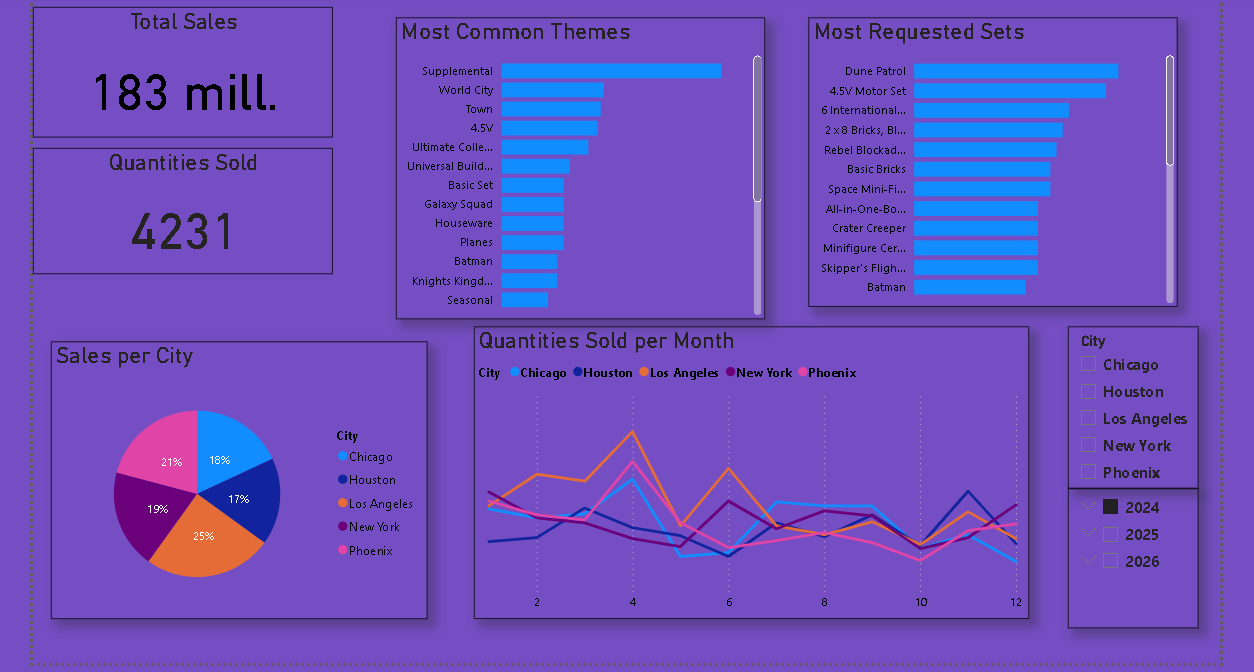

The page's visual inventory and layout, read from the dashboard file:
{"tool":"powerbi","page":{"name":"Página 1","canvas":[1280,720],"ordinal":0},"visuals":[{"type":"pieChart","title":"Sales per City","fields":{"Y":["CountNonNull(fact_orders.order_id)"],"Series":["fact_orders.city_ship"]},"box":[19.4,373.8,406.1,299.3],"z":0},{"type":"lineChart","title":"Quantities Sold per Month","fields":{"Category":["dim_date.month"],"Y":["Sum(fact_orders.quantity)"],"Series":["fact_orders.city_ship"]},"box":[475.7,357.6,598.7,315.5],"z":1000},{"type":"card","title":"Total Sales","fields":{"Values":["Medidas.price x quantity"]},"box":[0,12.9,323.6,140.8],"z":2000},{"type":"clusteredBarChart","title":"Most Requested Sets","fields":{"Category":["dim_set.set_name"],"Y":["CountNonNull(fact_orders.order_id)"]},"box":[836.5,24.3,398,312.3],"z":3000},{"type":"clusteredBarChart","title":"Most Common Themes","fields":{"Y":["CountNonNull(fact_orders.order_id)"],"Category":["dim_set.theme_name"]},"box":[391.6,24.3,398,325.2],"z":4000},{"type":"card","title":"Quantities Sold","fields":{"Values":["Sum(fact_orders.quantity)"]},"box":[0,165,323.6,135.9],"z":5000},{"type":"slicer","fields":{"Values":["fact_orders.city_ship"]},"box":[1116.4,357.6,140.8,174.7],"z":6000},{"type":"slicer","fields":{"Values":["dim_date.year","dim_date.quarter","dim_date.is_weekend"]},"box":[1116.4,532.3,140.8,150.5],"z":6001}]}

Visuals, with their boxes in screenshot pixels (x1, y1, x2, y2):
"Sales per City" pieChart: 51:341:425:617
"Quantities Sold per Month" lineChart: 471:326:1023:617
"Total Sales" card: 33:9:331:138
"Most Requested Sets" clusteredBarChart: 803:19:1170:307
"Most Common Themes" clusteredBarChart: 393:19:760:319
"Quantities Sold" card: 33:149:331:274
slicer - fact_orders.city_ship: 1061:326:1191:487
slicer - dim_date.year x dim_date.quarter: 1061:487:1191:626
